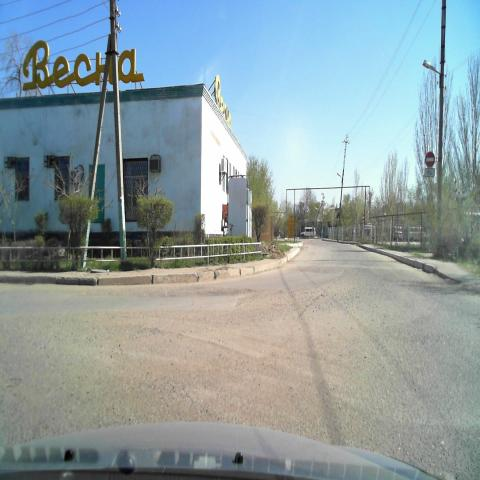3_1: (425, 151, 435, 168)
